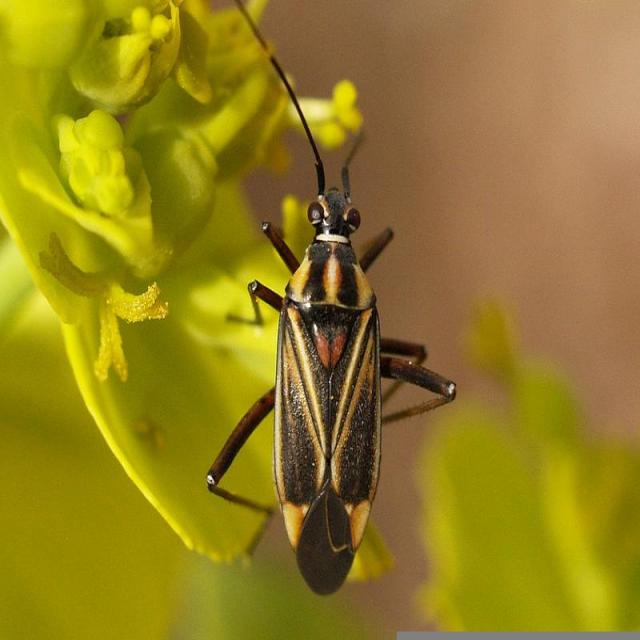Miridae-Adult-: (198, 6, 460, 604)
